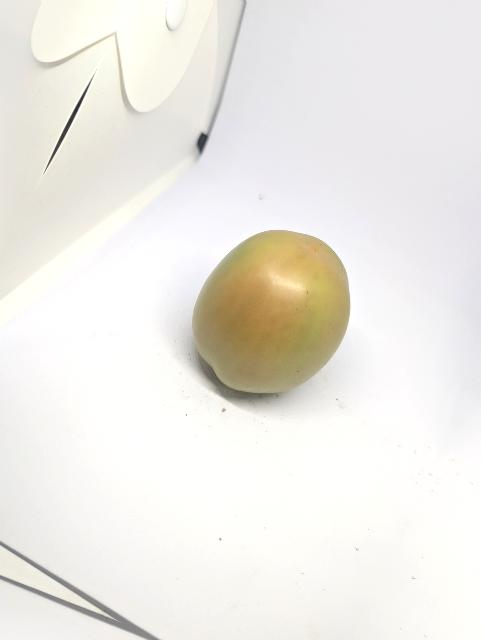breaker: (187, 220, 362, 404)
